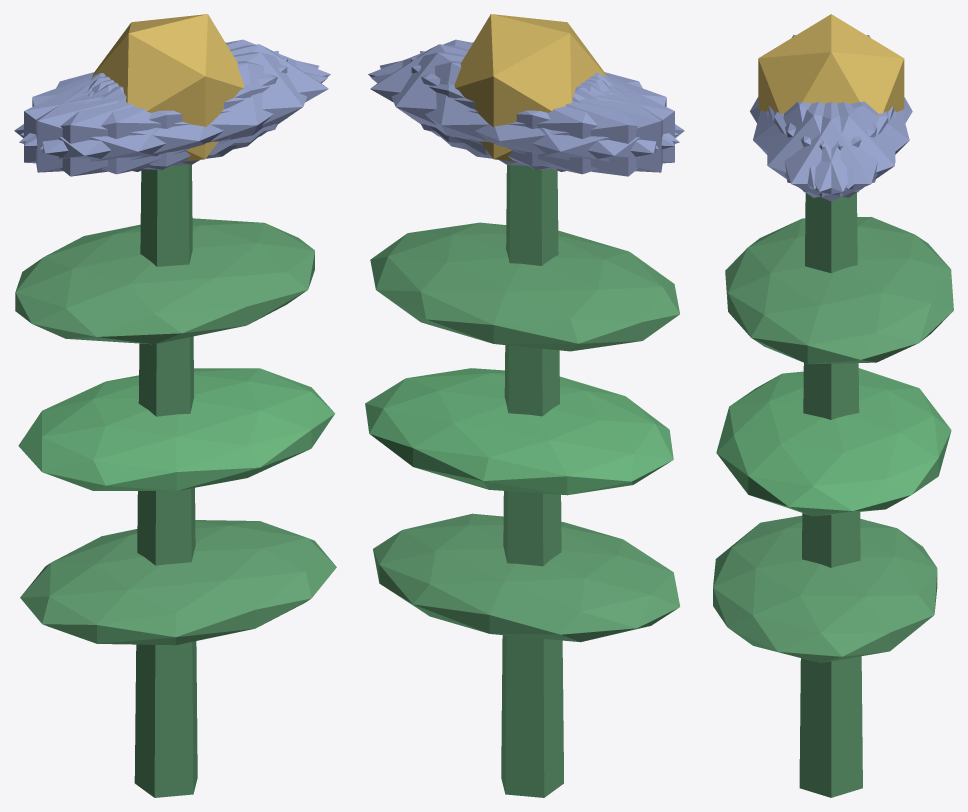
File: triplaris-cumingiana.glb
3 renders of one model, left to right at view 1: azimuth 30°, elevation 25°; view 2: azimuth 150°, elevation 25°; view 3: azimuth 270°, elevation 25°, orthographic.
Parts seen in each view (by area): view 1: leaf1, leaf0, leaf2, stem, center, petal1, petal6, petal2, petal5, petal7, petal0, petal4 (+2 smaller); view 2: leaf2, leaf1, leaf0, stem, center, petal8, petal3, petal7, petal4, petal2, petal0, petal5 (+2 smaller); view 3: leaf1, leaf2, leaf0, stem, center, petal0, petal4, petal5, petal8, petal1.
Part boxes in pixels (x1,y1,x2,y2): leaf1: (18, 368, 334, 490); leaf0: (20, 520, 336, 645); leaf2: (15, 218, 314, 344); stem: (134, 165, 197, 797); center: (92, 14, 244, 161); petal1: (19, 61, 327, 174); petal6: (14, 74, 237, 176); petal2: (36, 51, 278, 172); petal5: (40, 52, 318, 166); petal7: (24, 57, 287, 169); petal0: (92, 44, 328, 155); petal4: (20, 39, 330, 146); leaf2: (370, 222, 679, 351); leaf1: (365, 368, 673, 495); leaf0: (373, 513, 680, 642); stem: (501, 165, 563, 797); center: (454, 14, 606, 161); petal8: (371, 61, 679, 174); petal3: (461, 74, 684, 176); petal7: (420, 51, 662, 172); petal4: (380, 52, 658, 166); petal2: (411, 57, 674, 169); petal0: (370, 44, 606, 155); petal5: (368, 39, 678, 146); leaf1: (716, 368, 951, 516); leaf2: (725, 217, 953, 364); leaf0: (713, 515, 937, 663); stem: (799, 192, 862, 797); center: (758, 14, 904, 113); petal0: (768, 102, 893, 201); petal4: (774, 102, 895, 197); petal5: (766, 102, 888, 197); petal8: (785, 101, 909, 189); petal1: (753, 101, 877, 189).
Size of the model in its own units: 0.1452 by 0.3475 by 0.1011.
